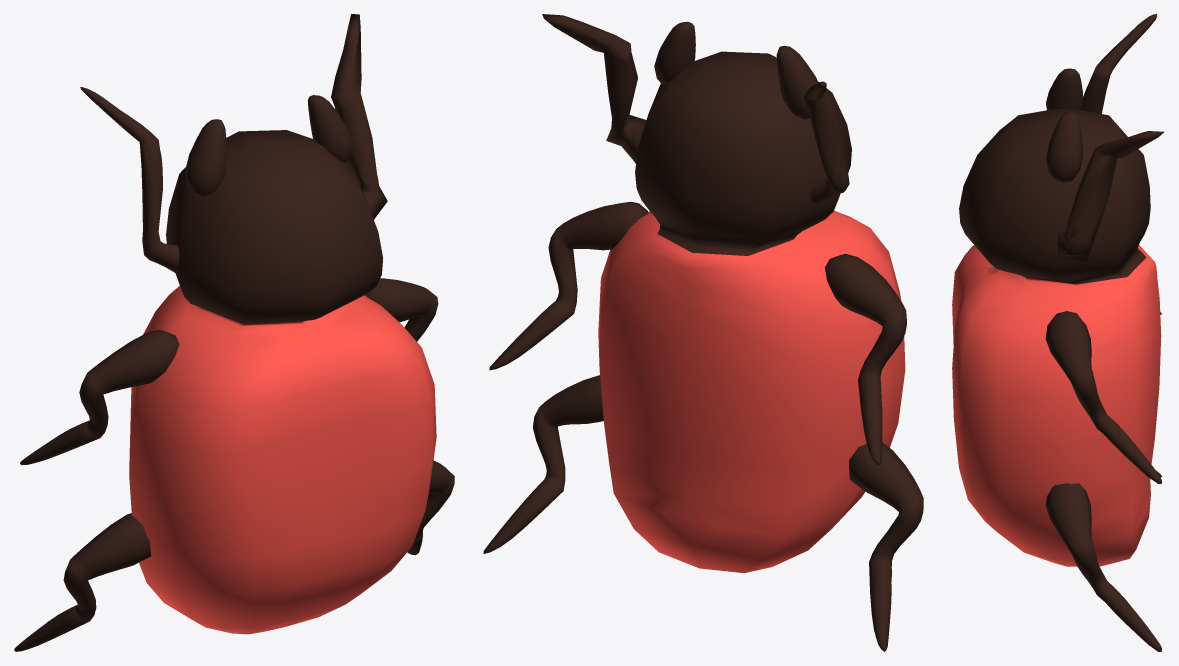
File: BeetleNew.fbx
The picture shows the model from 3 angles, left to right: view 1: azimuth 30°, elevation 25°; view 2: azimuth 150°, elevation 25°; view 3: azimuth 270°, elevation 25°; orthographic projection. The views are drawn at different scales.
Visible parts, largest first — view 1: Cube.004; view 2: Cube.004; view 3: Cube.004.
Part boxes in pixels (x1=…): Cube.004: x1=14, y1=14, x2=454, y2=651; Cube.004: x1=483, y1=14, x2=923, y2=651; Cube.004: x1=952, y1=14, x2=1164, y2=651.
Size of the model in its own units: 176 by 232 by 90.67.
